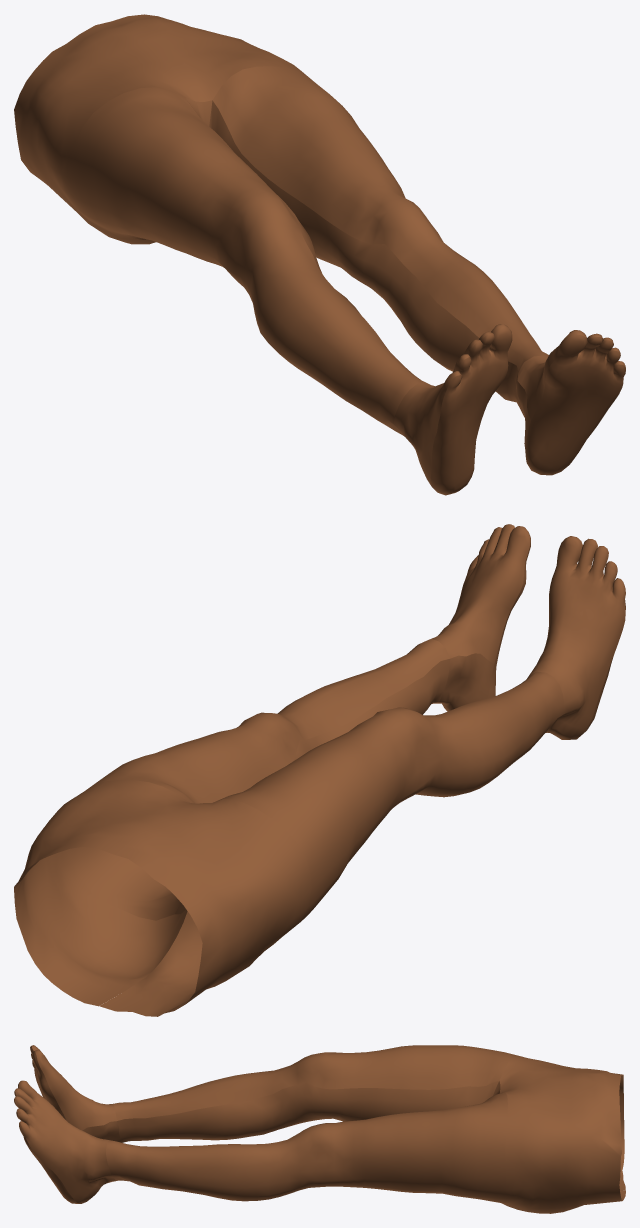
File: pies 1.fbx
The picture shows the model from 3 angles, top to bottom: view 1: azimuth 30°, elevation 25°; view 2: azimuth 150°, elevation 25°; view 3: azimuth 270°, elevation 25°; orthographic projection. The views are drawn at different scales.
Visible parts, largest first — view 1: Plane.009; view 2: Plane.009; view 3: Plane.009.
Part boxes in pixels (x1,y1,x2,y2): Plane.009: [14, 14, 625, 495]; Plane.009: [14, 524, 625, 1016]; Plane.009: [14, 1045, 625, 1213].
Size of the model in its own units: 3667 by 2681 by 11368.
